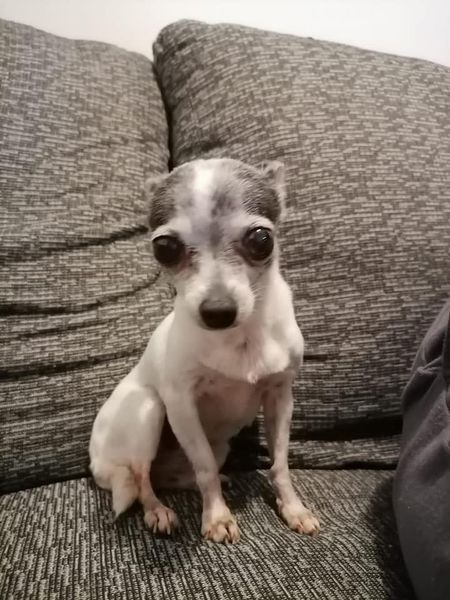dog: (83, 148, 342, 551)
